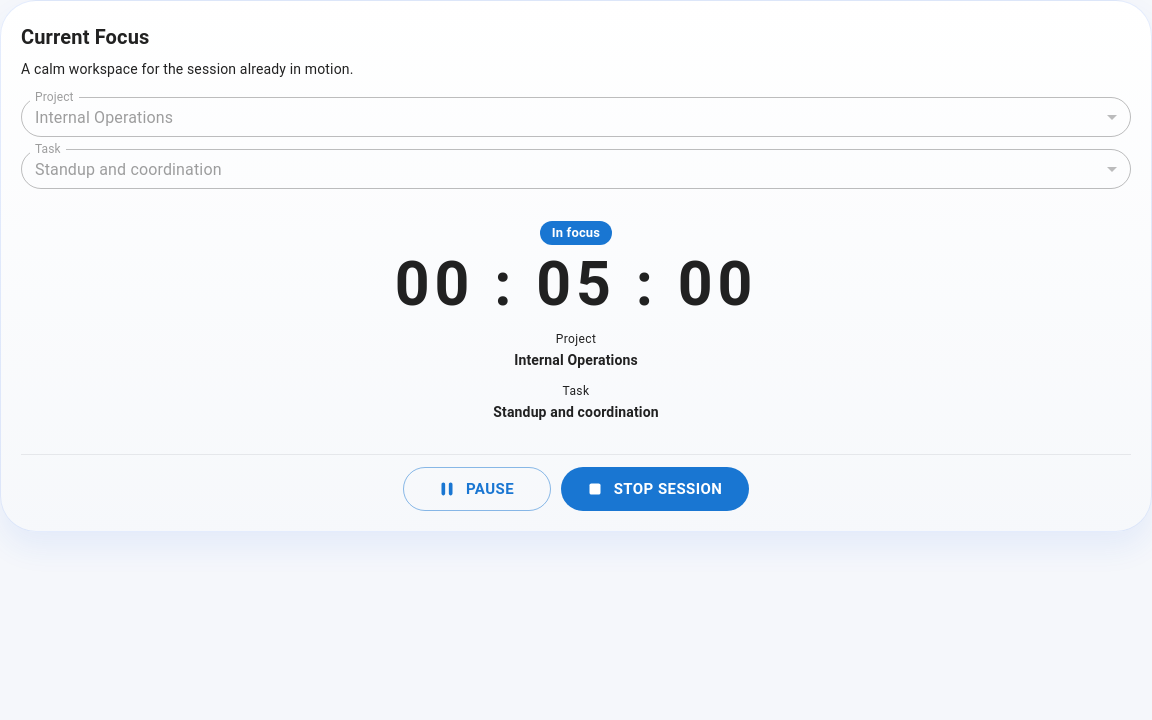
Test: CurrentFocusCard › stop session modal › opens the StopSessionModal when "Stop Session" is clicked
This screenshot has width=1152, height=720.
Step 1. Click the button "Stop Session" → {"x": 655, "y": 489}, box [561,467,749,511]
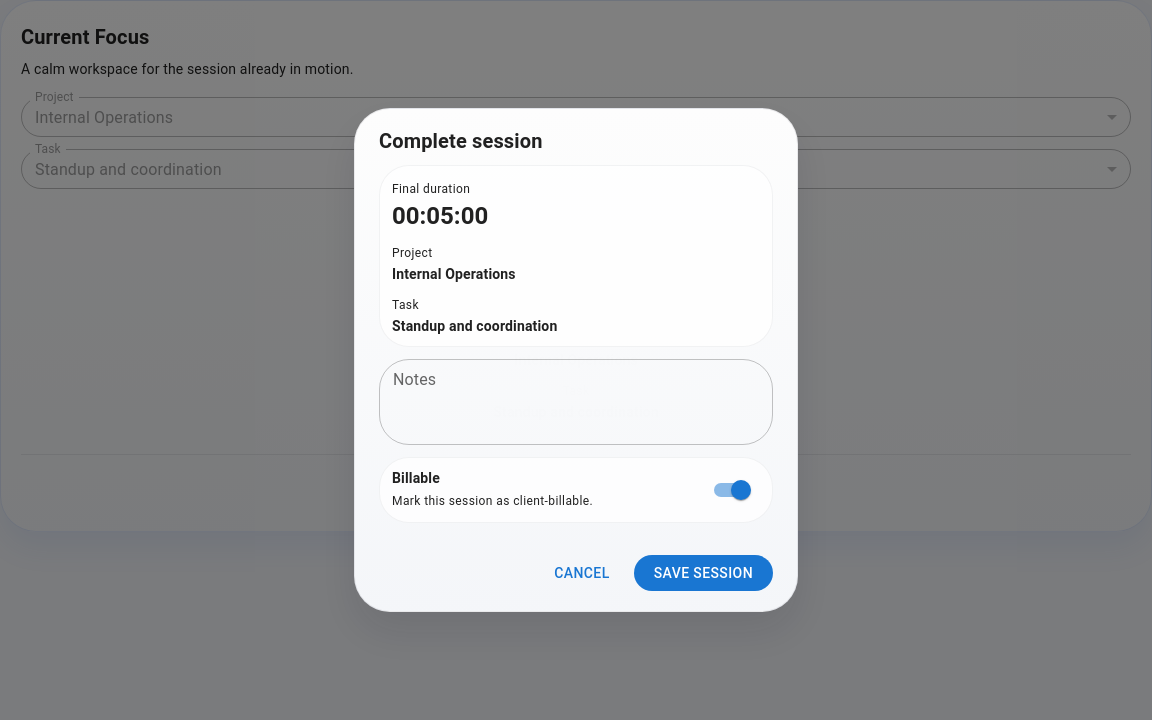
Expected: the text "Complete session" is shown, [379,129,542,153]
